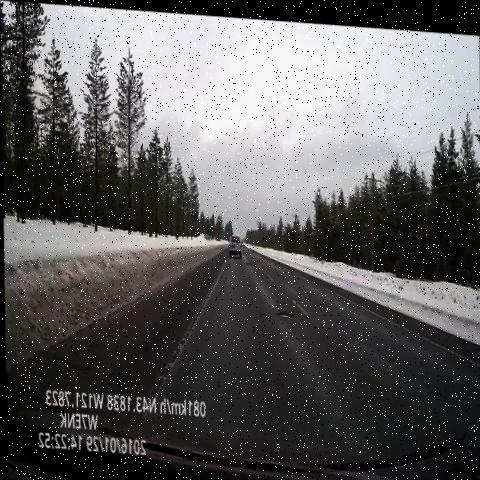pothole: (273, 299, 295, 325), (239, 253, 254, 271)
